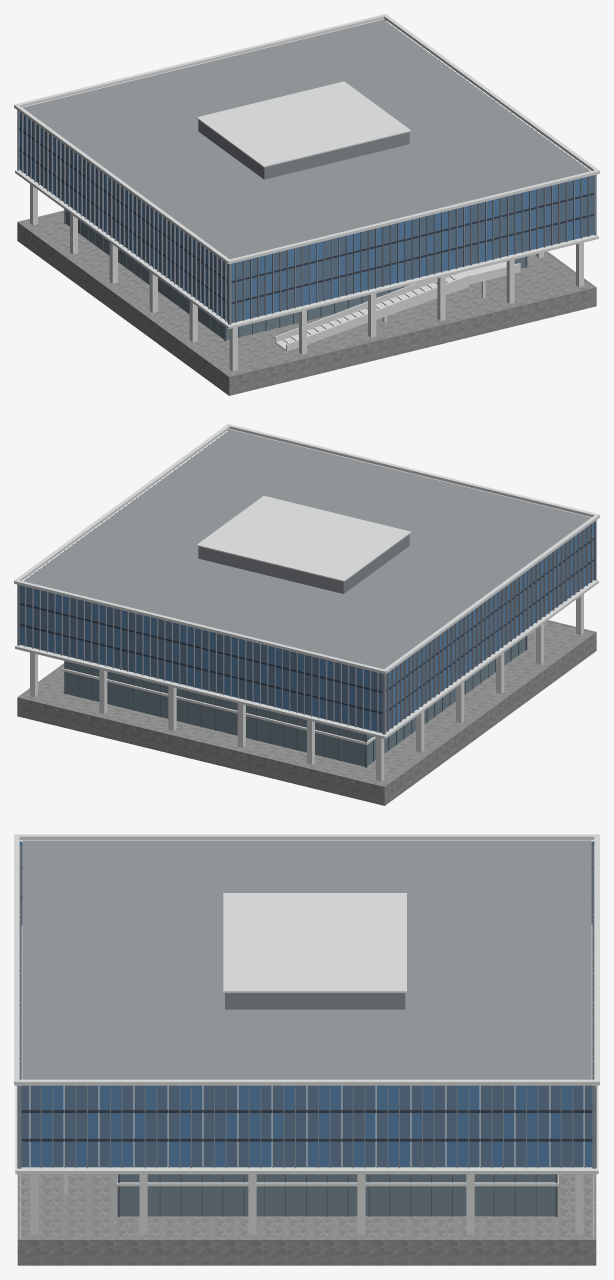
The picture shows the model from 3 angles, top to bottom: view 1: azimuth 30°, elevation 25°; view 2: azimuth 150°, elevation 25°; view 3: azimuth 270°, elevation 25°; orthographic projection. The views are drawn at different scales.
Parts seen in each view (by area): view 1: kiBldg__roof, kiBldg__whiteCol, kiBldg__stoneBase, kiBldg__glass, kiBldg__mullion, kiBldg__glassBlue, kiBldg__glassLow, kiBldg__core, kiBldg__spandrel, kiBldg__frame; view 2: kiBldg__roof, kiBldg__whiteCol, kiBldg__stoneBase, kiBldg__glass, kiBldg__mullion, kiBldg__glassBlue, kiBldg__glassLow, kiBldg__core, kiBldg__spandrel, kiBldg__frame; view 3: kiBldg__roof, kiBldg__whiteCol, kiBldg__stoneBase, kiBldg__glass, kiBldg__glassBlue, kiBldg__glassLow, kiBldg__mullion, kiBldg__spandrel, kiBldg__core, kiBldg__frame.
Boxes of the visible parts, left/top/right/bottom form: kiBldg__roof: left=22, top=19, right=590, bottom=259; kiBldg__whiteCol: left=14, top=14, right=599, bottom=371; kiBldg__stoneBase: left=17, top=210, right=596, bottom=395; kiBldg__glass: left=19, top=112, right=593, bottom=322; kiBldg__mullion: left=17, top=19, right=596, bottom=324; kiBldg__glassBlue: left=19, top=115, right=587, bottom=319; kiBldg__glassLow: left=65, top=210, right=525, bottom=340; kiBldg__core: left=198, top=120, right=409, bottom=179; kiBldg__spandrel: left=19, top=128, right=593, bottom=303; kiBldg__frame: left=64, top=209, right=527, bottom=340; kiBldg__roof: left=23, top=429, right=591, bottom=669; kiBldg__whiteCol: left=14, top=424, right=599, bottom=781; kiBldg__stoneBase: left=17, top=620, right=596, bottom=805; kiBldg__glass: left=20, top=525, right=594, bottom=732; kiBldg__mullion: left=17, top=429, right=596, bottom=734; kiBldg__glassBlue: left=20, top=522, right=594, bottom=731; kiBldg__glassLow: left=66, top=637, right=525, bottom=766; kiBldg__core: left=198, top=534, right=409, bottom=593; kiBldg__spandrel: left=20, top=538, right=594, bottom=713; kiBldg__frame: left=64, top=636, right=527, bottom=767; kiBldg__roof: left=22, top=840, right=591, bottom=1079; kiBldg__whiteCol: left=14, top=834, right=599, bottom=1234; kiBldg__stoneBase: left=17, top=1174, right=596, bottom=1265; kiBldg__glass: left=21, top=842, right=594, bottom=1167; kiBldg__glassBlue: left=19, top=842, right=592, bottom=1167; kiBldg__glassLow: left=120, top=1174, right=555, bottom=1216; kiBldg__mullion: left=17, top=841, right=596, bottom=1168; kiBldg__spandrel: left=21, top=868, right=592, bottom=1141; kiBldg__core: left=160, top=993, right=535, bottom=1215; kiBldg__frame: left=117, top=1174, right=557, bottom=1216.
Size of the model in its own units: 71.59 by 27.1 by 71.53.
10 materials, 1 textured.
